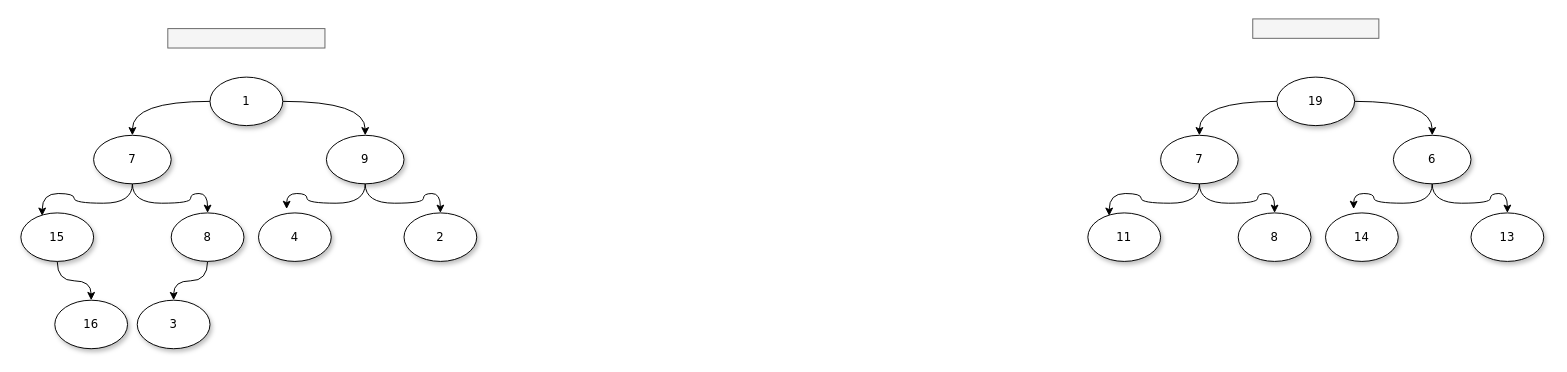
Image size: 1567x372. Some labels were removed from this diagram. Here are the shapes that lost their labels. From the top down, the centre of each, then its label:
the point at 246,38: Árbol de la clase
the point at 1315,28: Árbol creado
